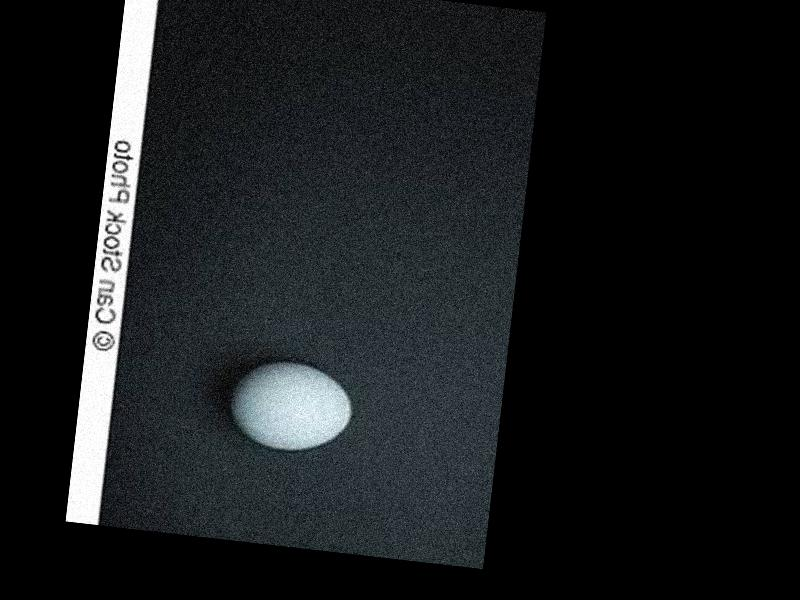Eggs: (226, 356, 356, 459)
